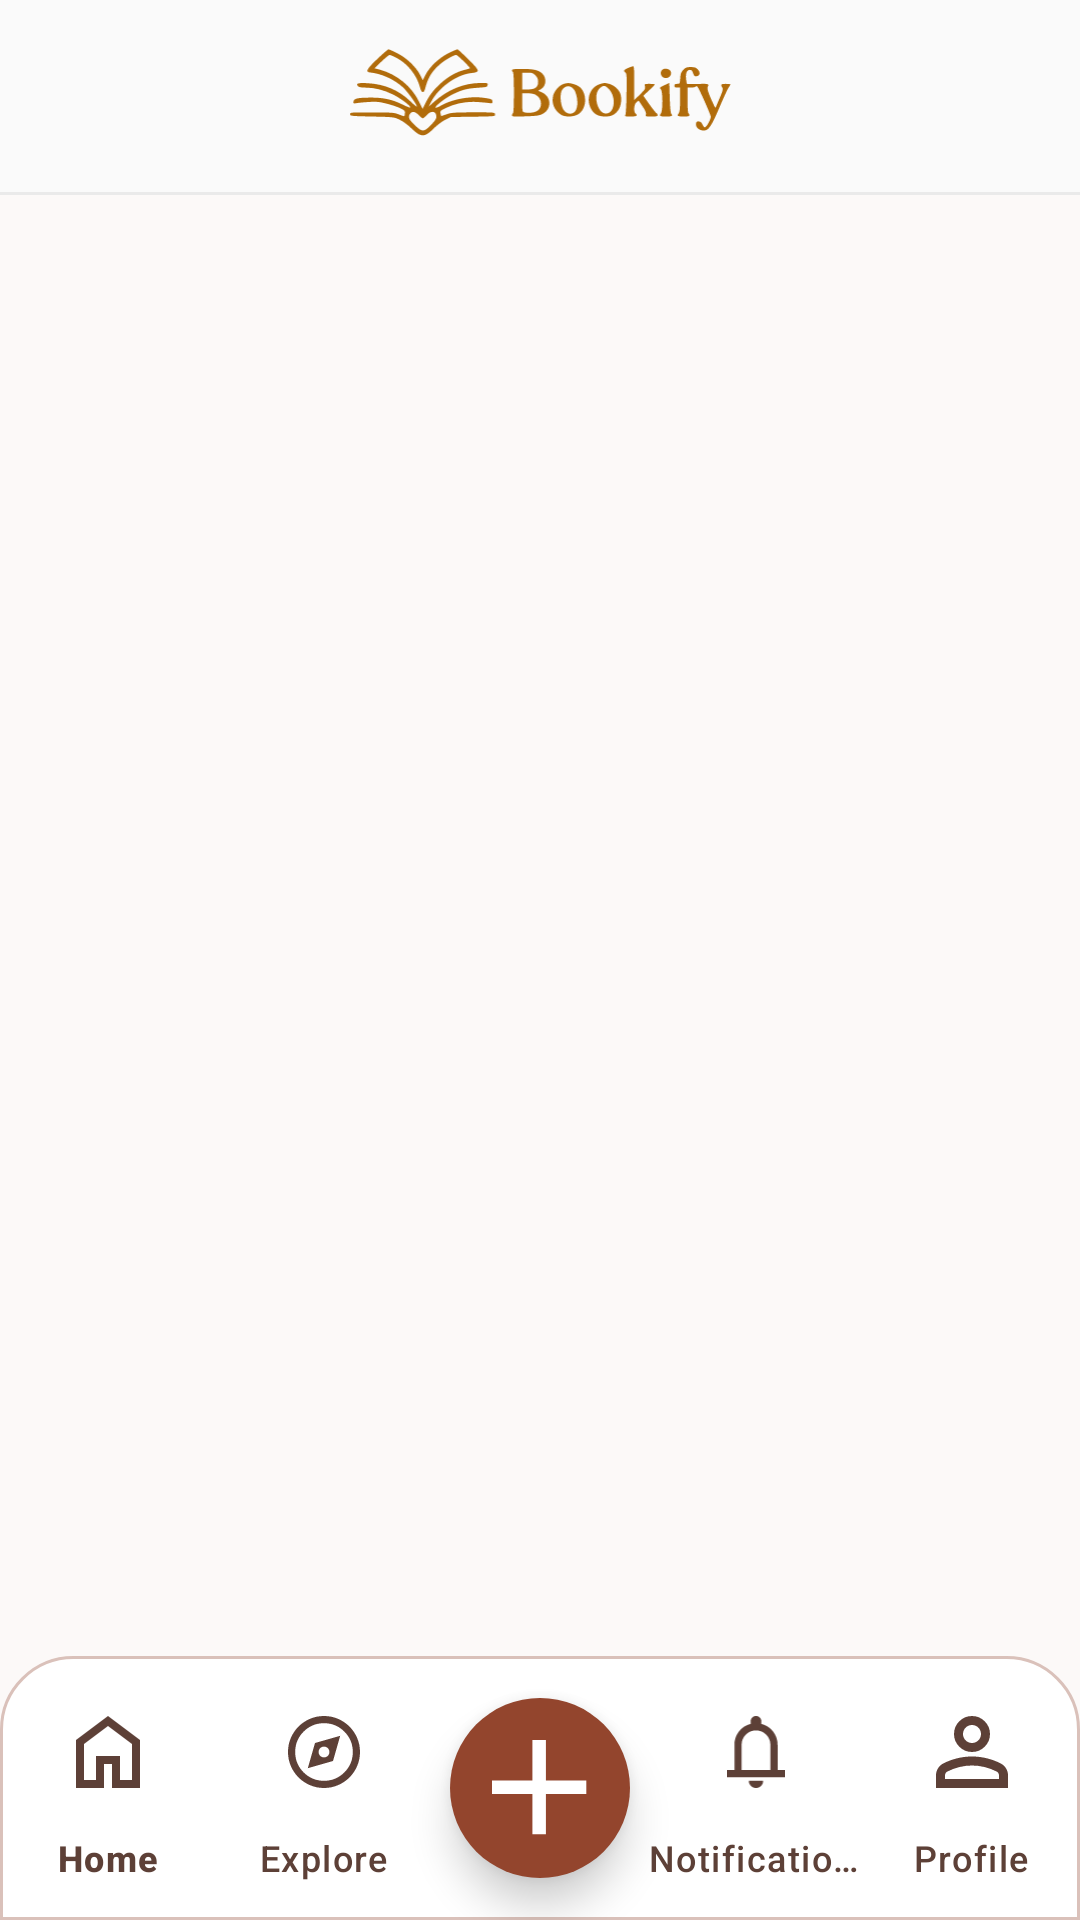

Locate icon controls on the screen. Image size 1080px x 1920px, boxes as region(x1, y1, x2, y2).
Create Post: region(450, 1698, 630, 1878)
